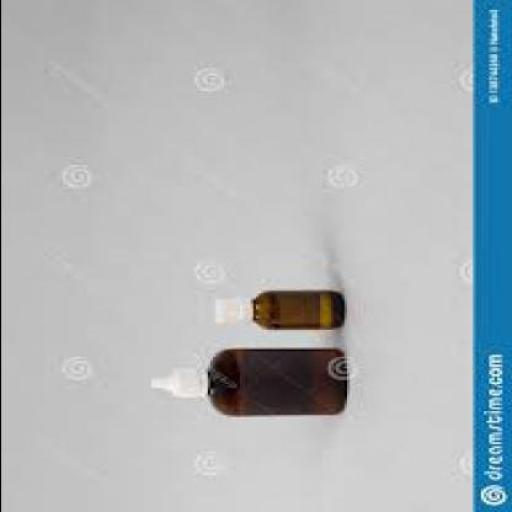glass: (203, 351, 343, 417), (250, 292, 340, 332)
plastic: (147, 368, 201, 400), (209, 301, 249, 328)
